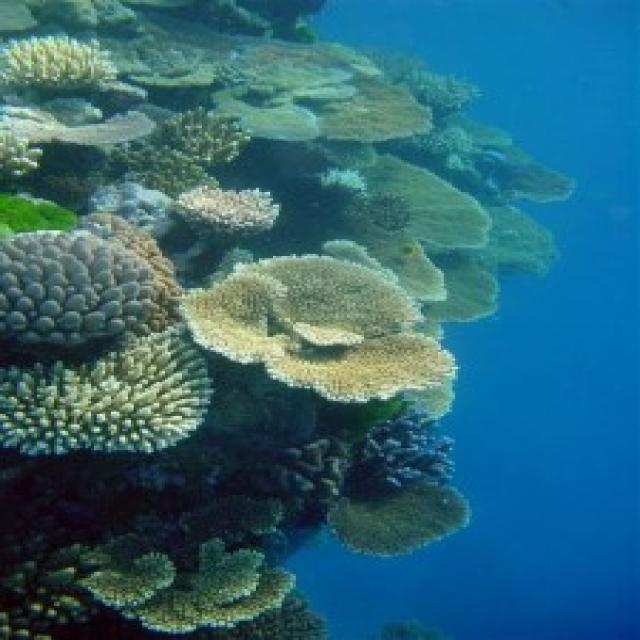Bleached: (1, 327, 211, 453), (4, 37, 118, 88), (172, 187, 280, 231)
Healthy: (1, 436, 337, 639), (251, 157, 556, 321), (180, 227, 453, 402), (103, 29, 431, 144), (1, 216, 180, 347), (1, 108, 251, 197), (328, 417, 467, 554)
